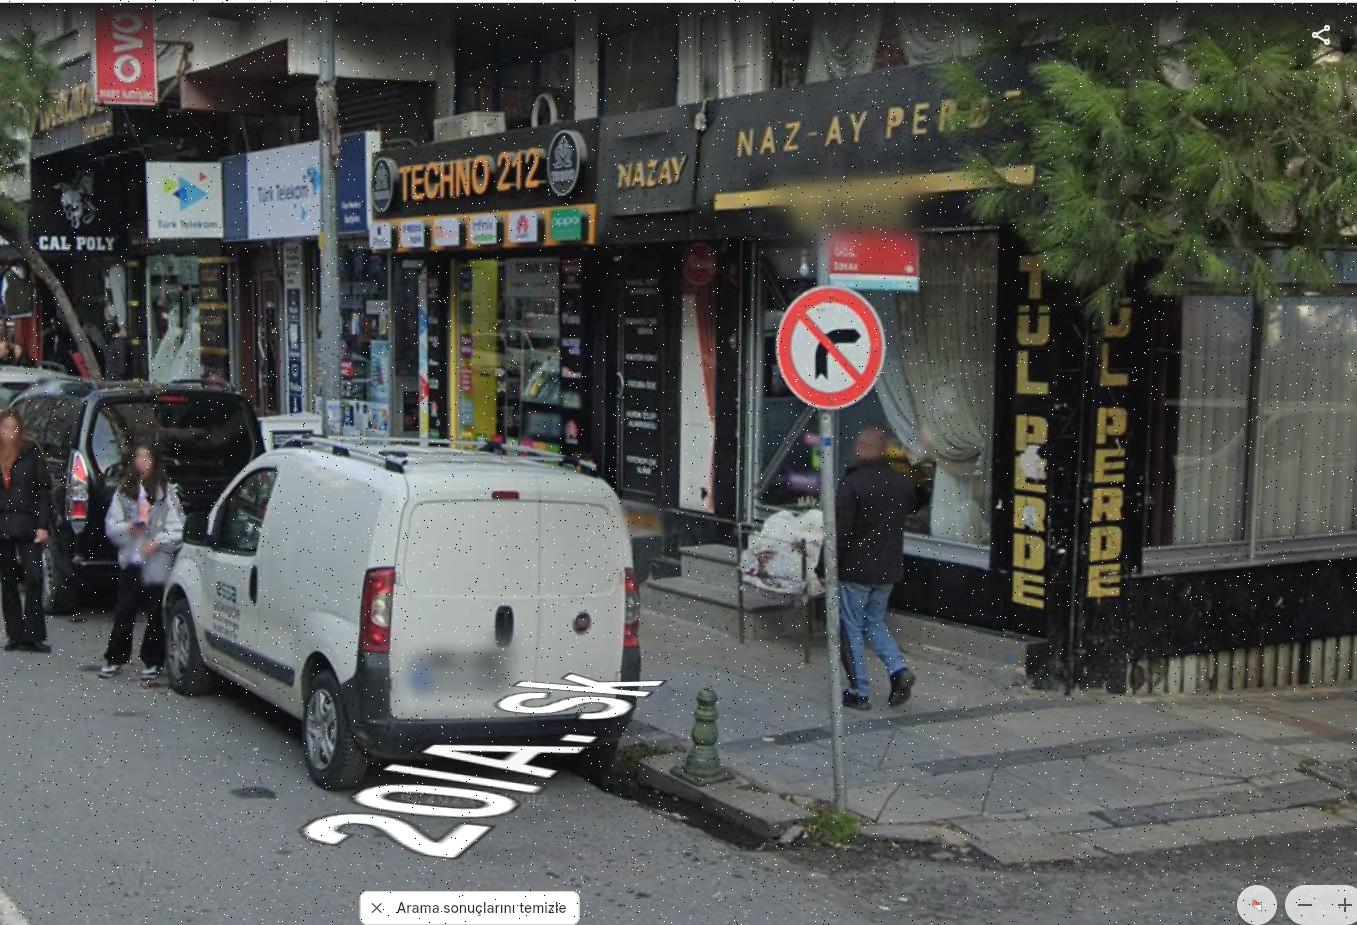rightturnsareforbidden: (774, 286, 894, 408)
